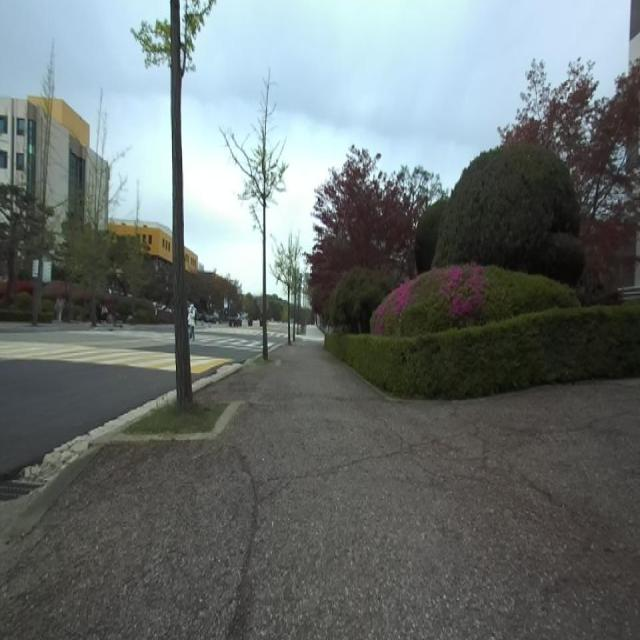sidewalk: (0, 336, 640, 639)
